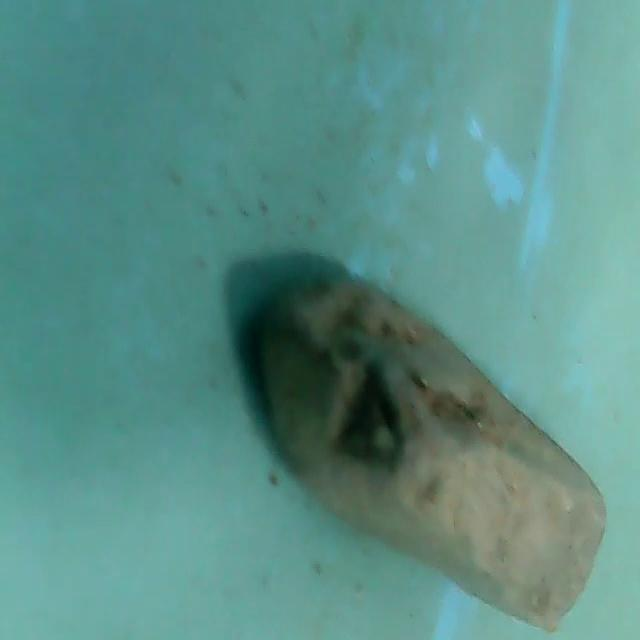rock: (235, 249, 616, 640)
